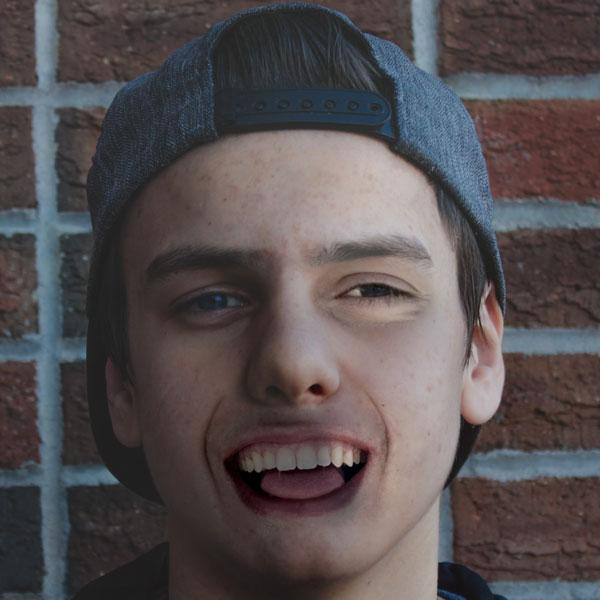Eyes: (316, 266, 429, 324), (162, 274, 265, 332)
